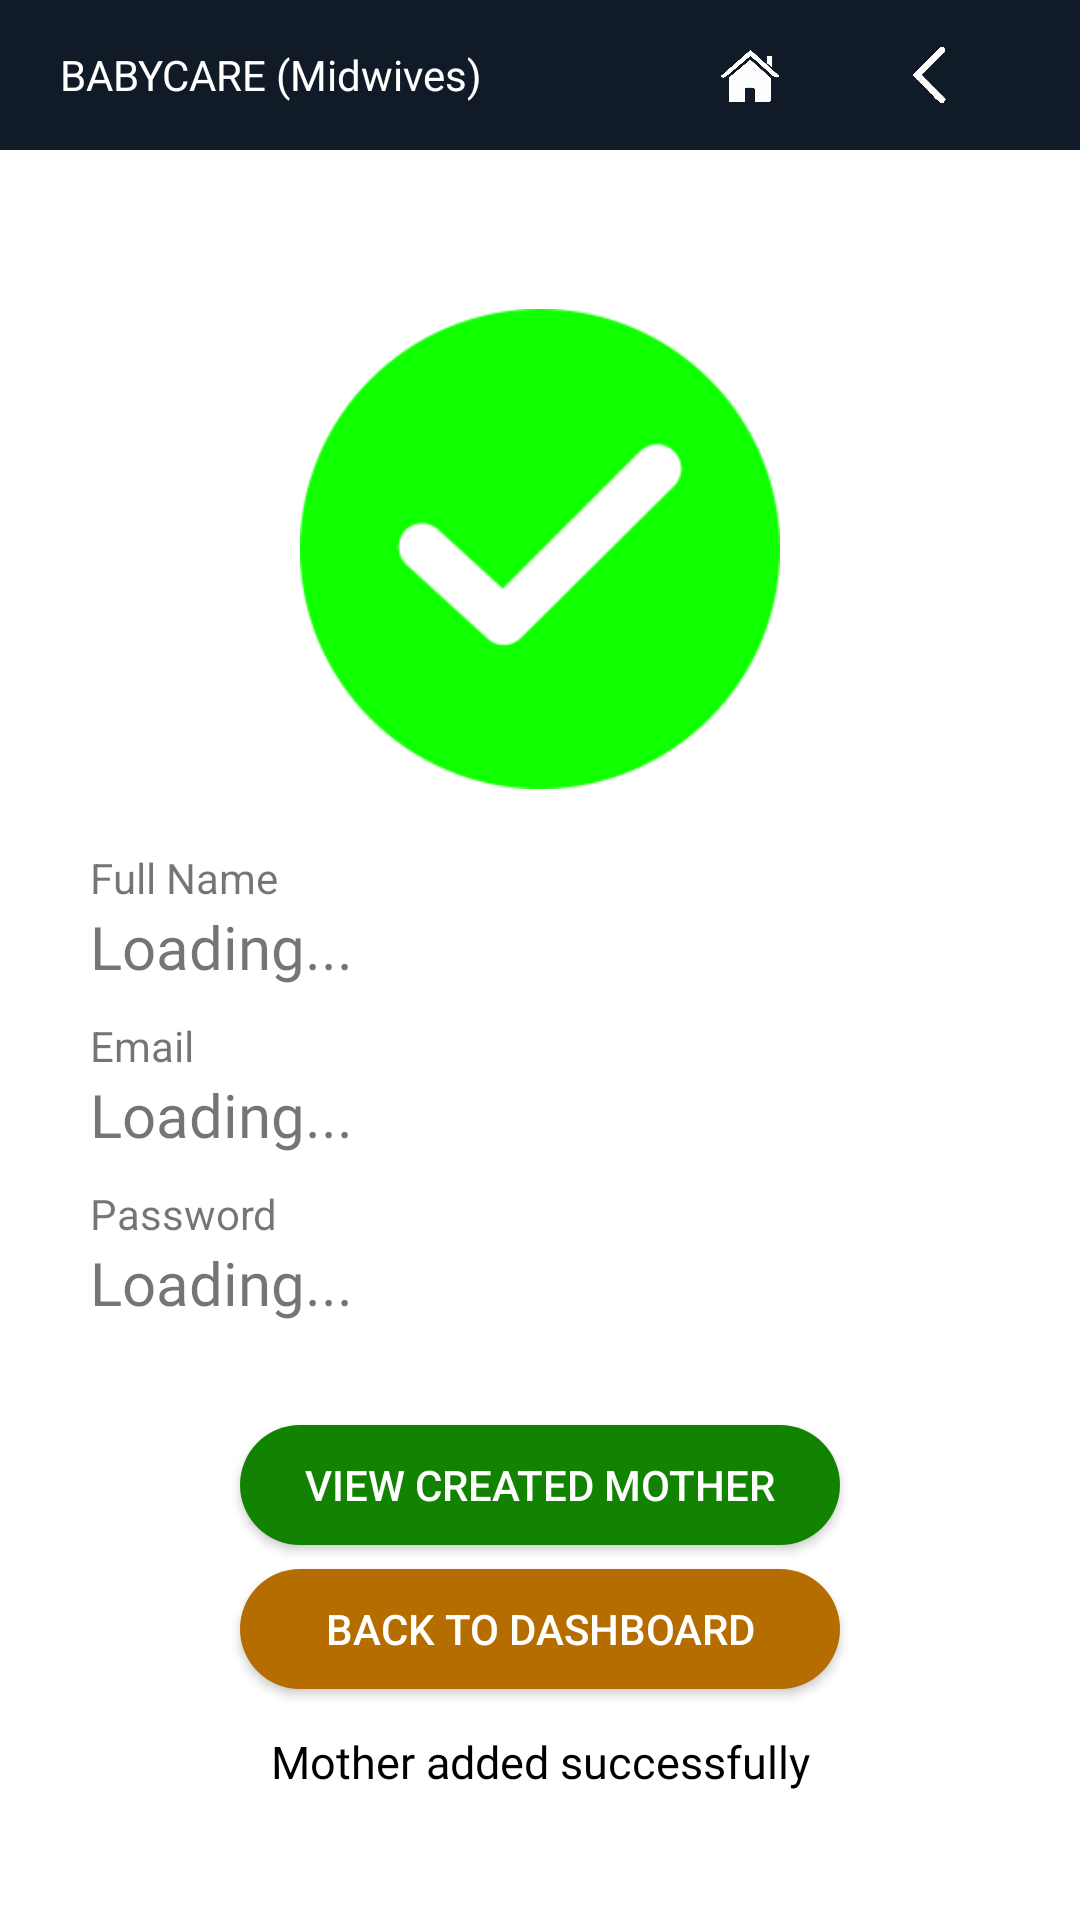

Screen size 1080 x 1920. Icon name, then its center in pixels as [x,y]:
back: [929,75]
home: [750,76]
